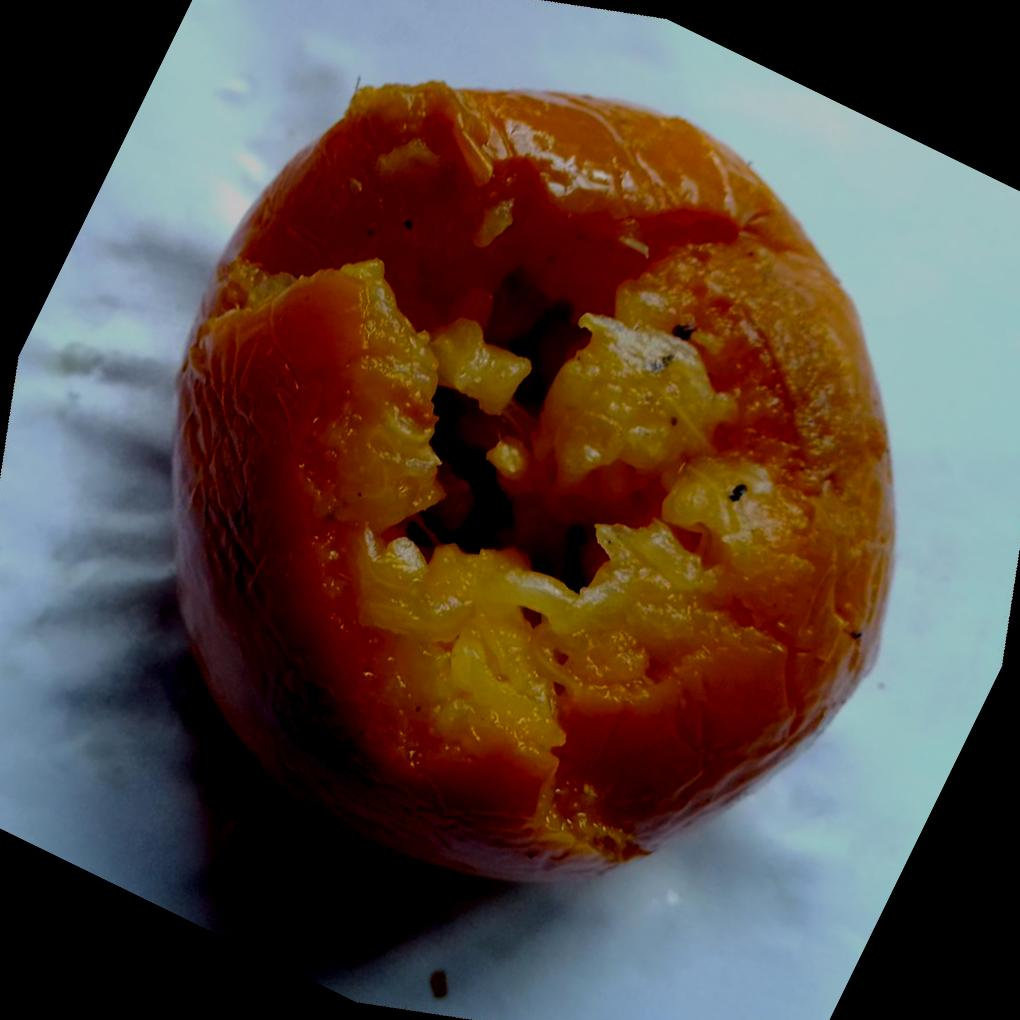FreshOrange: (167, 81, 895, 887)
